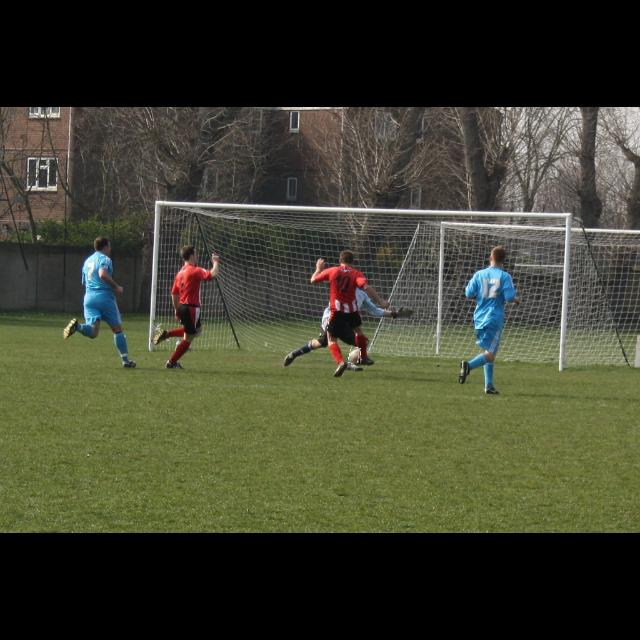Football: (350, 348, 360, 364)
